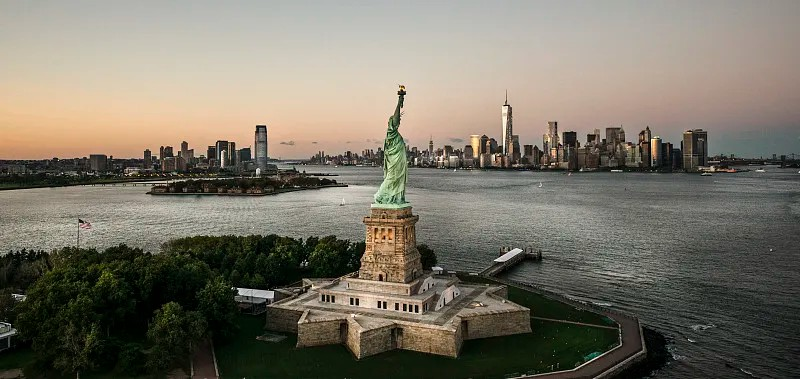SL: (358, 85, 421, 284)
